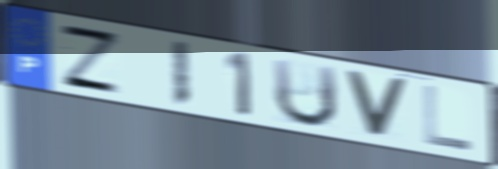1: (223, 50, 254, 121)
I: (169, 38, 192, 111)
L: (421, 82, 476, 154)
U: (269, 56, 340, 130)
V: (341, 67, 412, 143)
Z: (57, 21, 124, 98)
